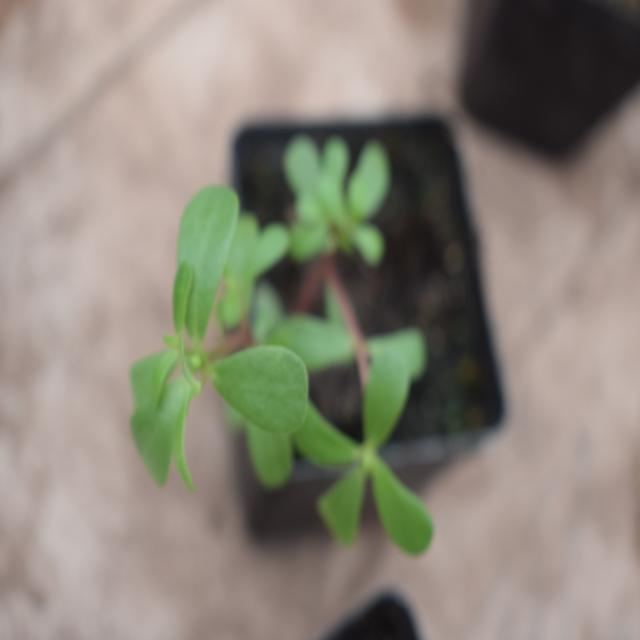purslane: (136, 191, 442, 552)
